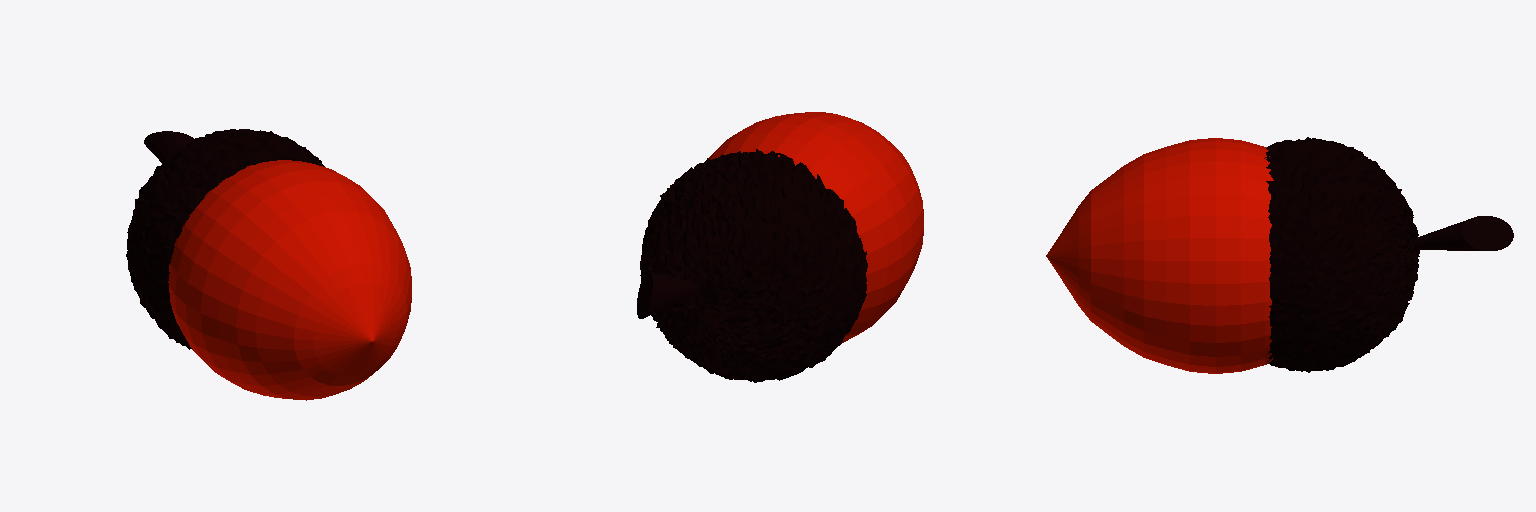
File: acorn.obj
3 renders of one model, left to right at view 1: azimuth 30°, elevation 25°; view 2: azimuth 150°, elevation 25°; view 3: azimuth 270°, elevation 25°, orthographic.
Parts seen in each view (by area): view 1: 球, 球.001, 円錐; view 2: 球.001, 球, 円錐; view 3: 球, 球.001, 円錐.
Boxes of the visible parts, x1=… form: 球: x1=168, y1=160, x2=411, y2=400; 球.001: x1=126, y1=129, x2=324, y2=349; 円錐: x1=144, y1=131, x2=193, y2=163; 球.001: x1=640, y1=149, x2=867, y2=382; 球: x1=708, y1=112, x2=923, y2=342; 円錐: x1=637, y1=272, x2=696, y2=318; 球: x1=1046, y1=138, x2=1273, y2=373; 球.001: x1=1264, y1=137, x2=1419, y2=372; 円錐: x1=1414, y1=216, x2=1513, y2=250.
Bounding box in the file's own units: 1.81 × 1.81 × 3.57.